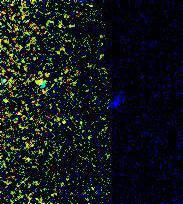star: (26, 64, 56, 94)
